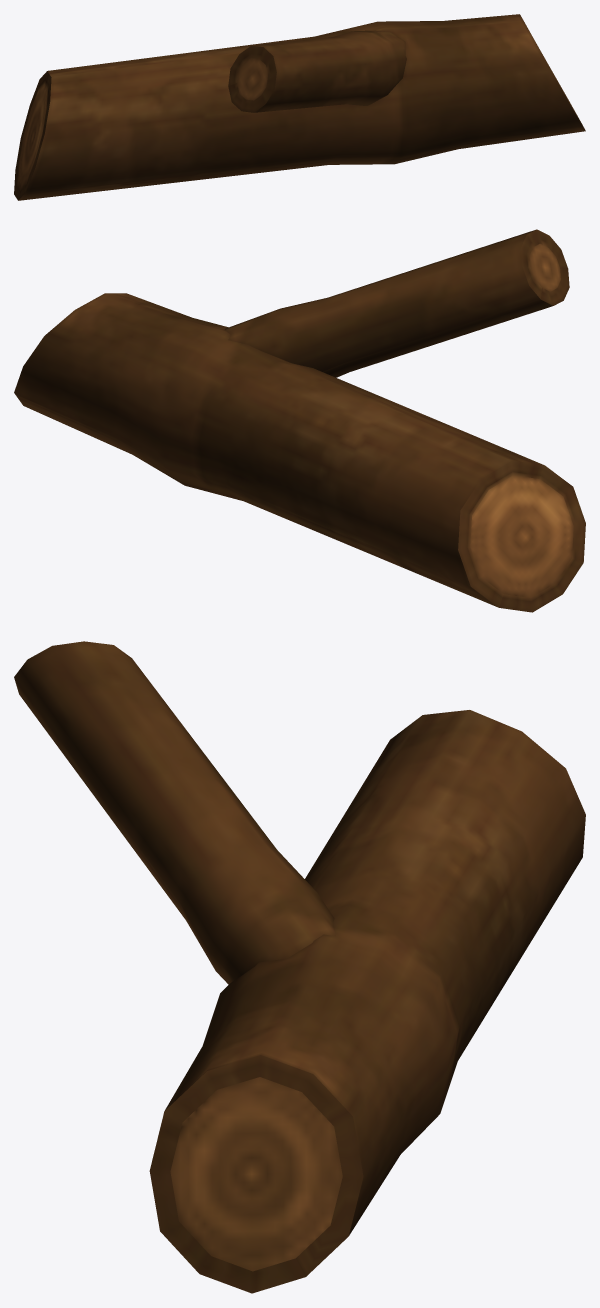
Rendered from TortoiseRescue_Obstacles_Log_02.glb.
3 views of the same model, one above another, from view 1: azimuth 30°, elevation 25°; view 2: azimuth 150°, elevation 25°; view 3: azimuth 270°, elevation 25° (orthographic). The views are drawn at different scales.
Parts seen in each view (by area): view 1: TortoiseRescue_Obstacles_Log_02; view 2: TortoiseRescue_Obstacles_Log_02; view 3: TortoiseRescue_Obstacles_Log_02.
Boxes of the visible parts, x1,y1,x2,y2 form: TortoiseRescue_Obstacles_Log_02: (14, 14, 585, 200); TortoiseRescue_Obstacles_Log_02: (14, 229, 585, 612); TortoiseRescue_Obstacles_Log_02: (14, 641, 585, 1293).
Size of the model in its own units: 3.19 by 1.26 by 1.8.
Materials: 1 (1 with a texture image).
